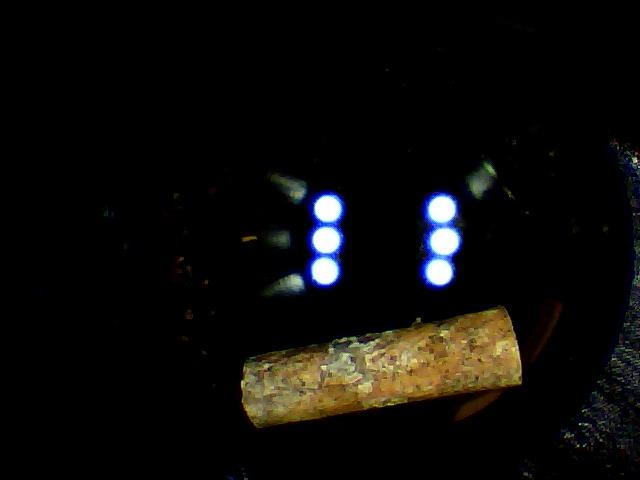megot: (232, 297, 536, 440)
